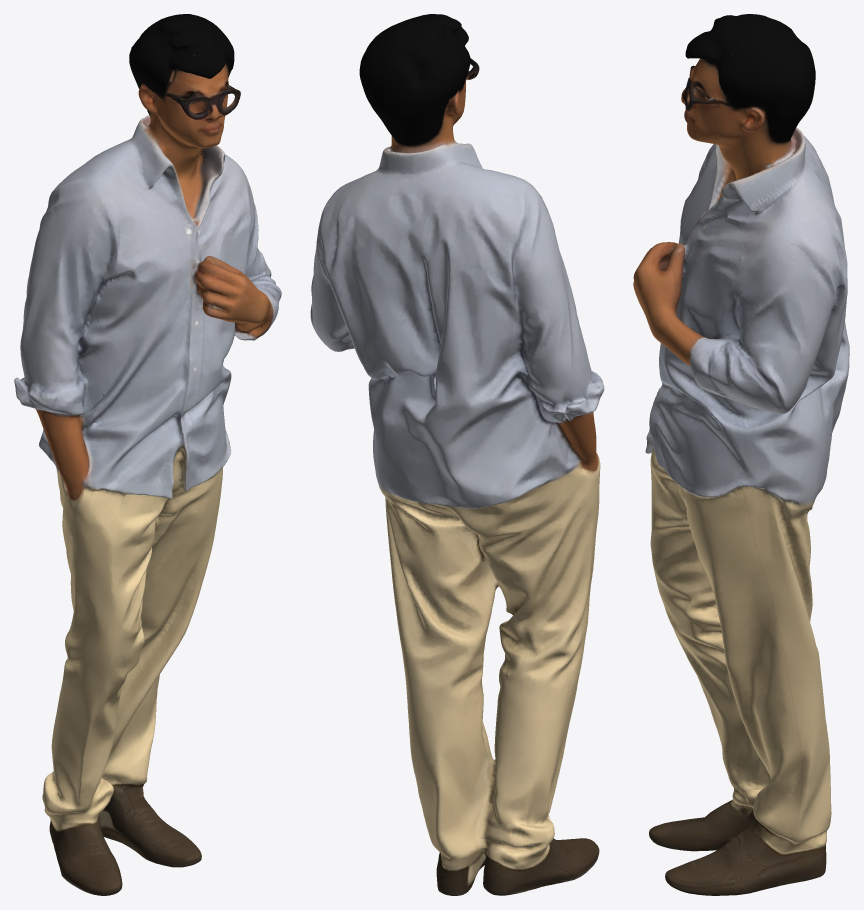
Rendered from felix-meshy-sunglasses.glb.
The picture shows the model from 3 angles, left to right: view 1: azimuth 30°, elevation 25°; view 2: azimuth 150°, elevation 25°; view 3: azimuth 270°, elevation 25°; orthographic projection. The views are drawn at different scales.
Parts seen in each view (by area): view 1: object 1; view 2: object 1; view 3: object 1.
Part boxes in pixels (bbox=[...]): object 1: bbox=[14, 14, 281, 895]; object 1: bbox=[310, 14, 604, 895]; object 1: bbox=[633, 14, 849, 895].
Bounding box in the file's own units: 0.6366 × 1.9 × 0.4209.
Materials: 2 (1 with a texture image).
